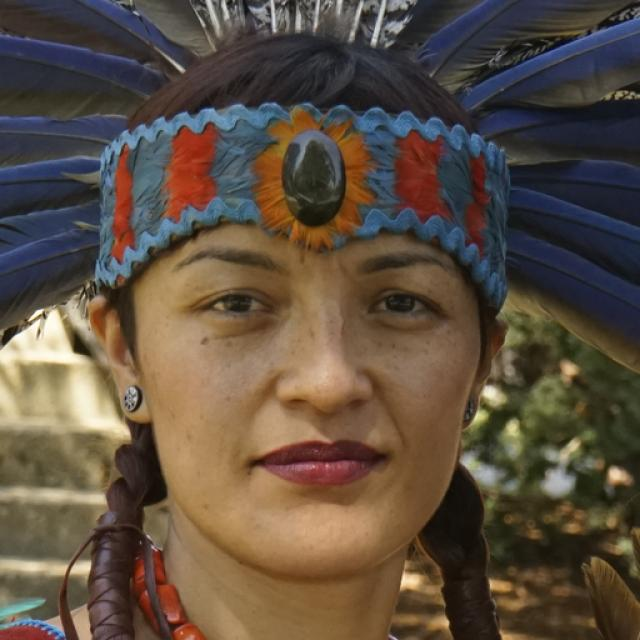Pigmentation: (286, 300, 360, 357), (365, 332, 439, 371), (188, 322, 246, 353)
